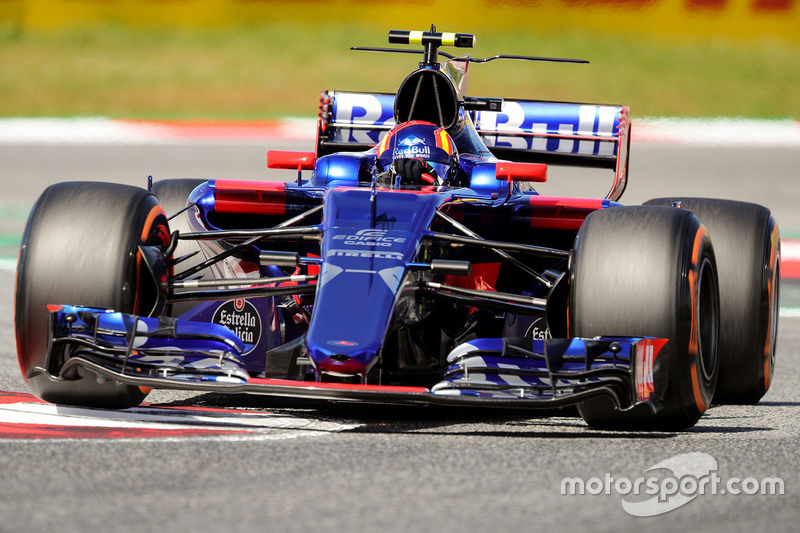F1 Car: (8, 23, 786, 431)
